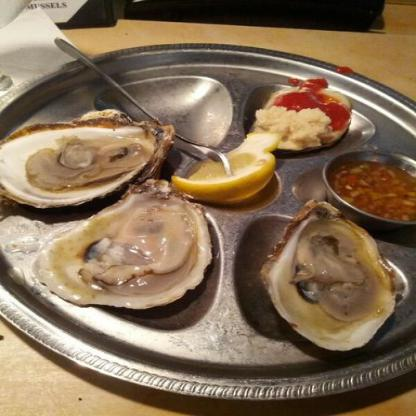oyster: (35, 188, 207, 311), (258, 211, 394, 351), (0, 116, 174, 215)
